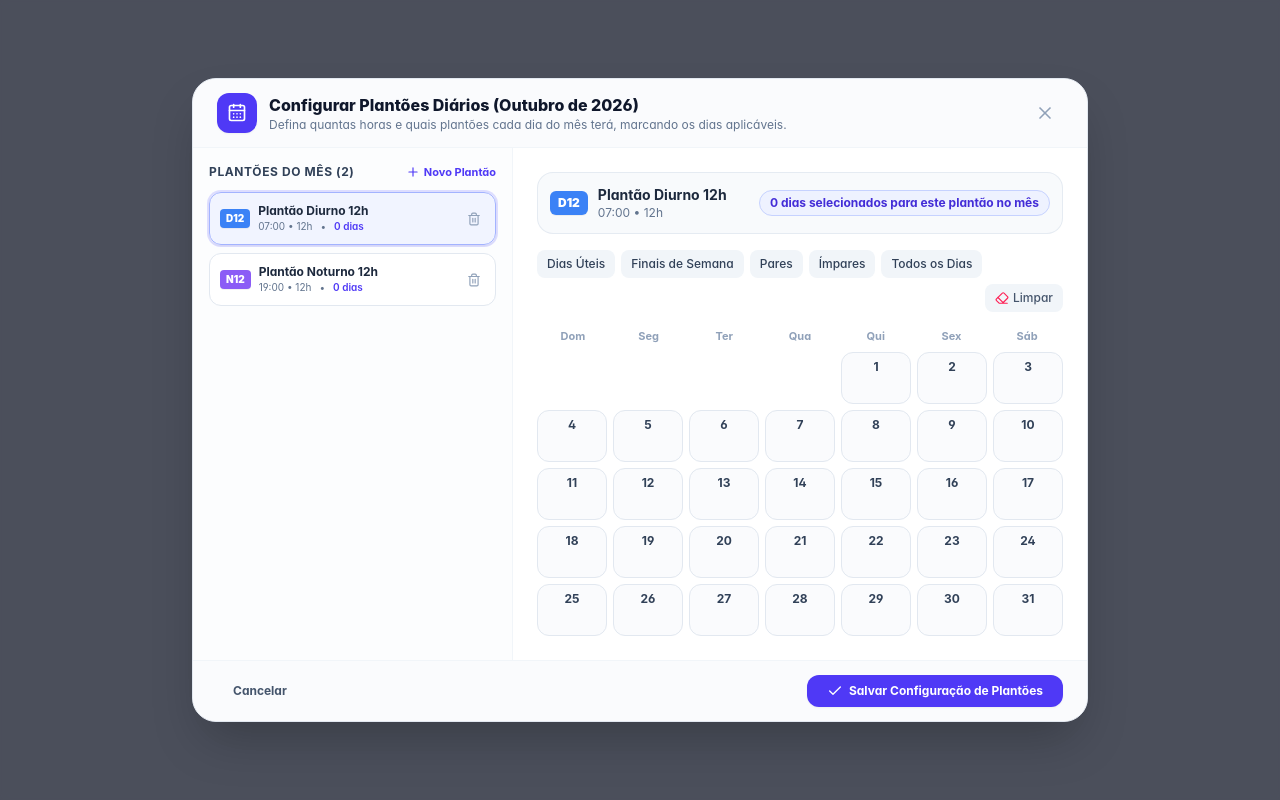
Test: MonthShiftConfigModal › creates a new shift type with a custom start time and duration
# Click "Novo Plantão"
Click the button "Novo Plantão". click: click(451, 172)
box: [406, 164, 496, 180]
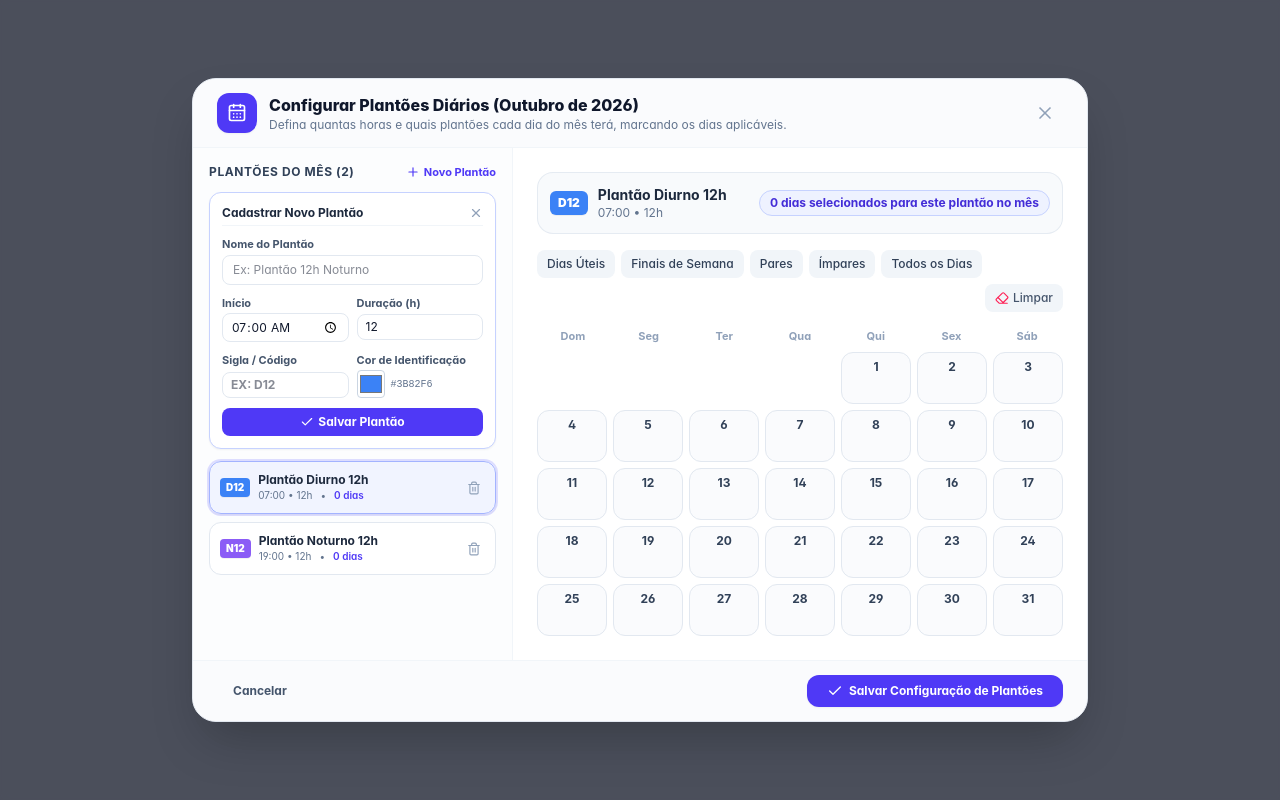
# Fill form
Type "Plantão Fim de Semana 24h" into the field with placeholder "Ex: Plantão 12h Noturno". click: (352, 270)
box: [222, 255, 483, 285]
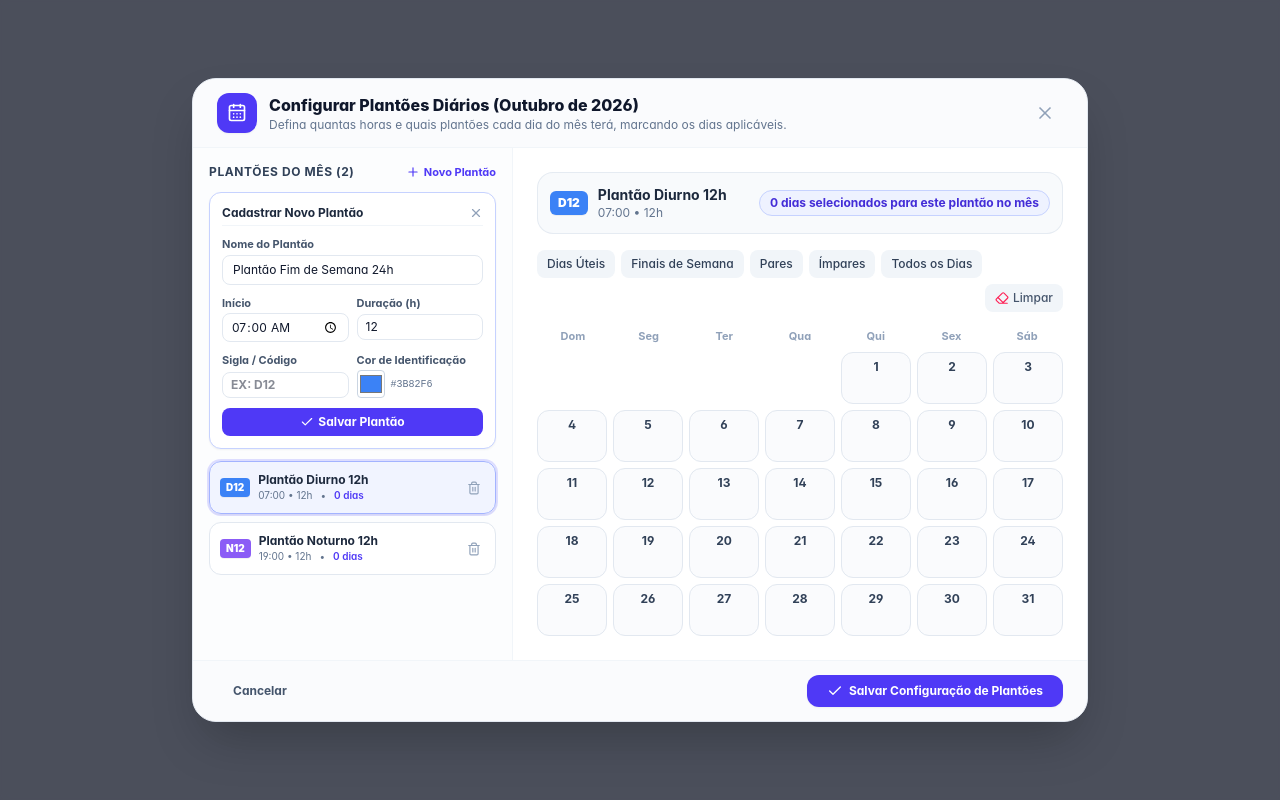
Replace the text in the number field showing "12" with "24". click: (420, 327)
box: [356, 314, 483, 340]
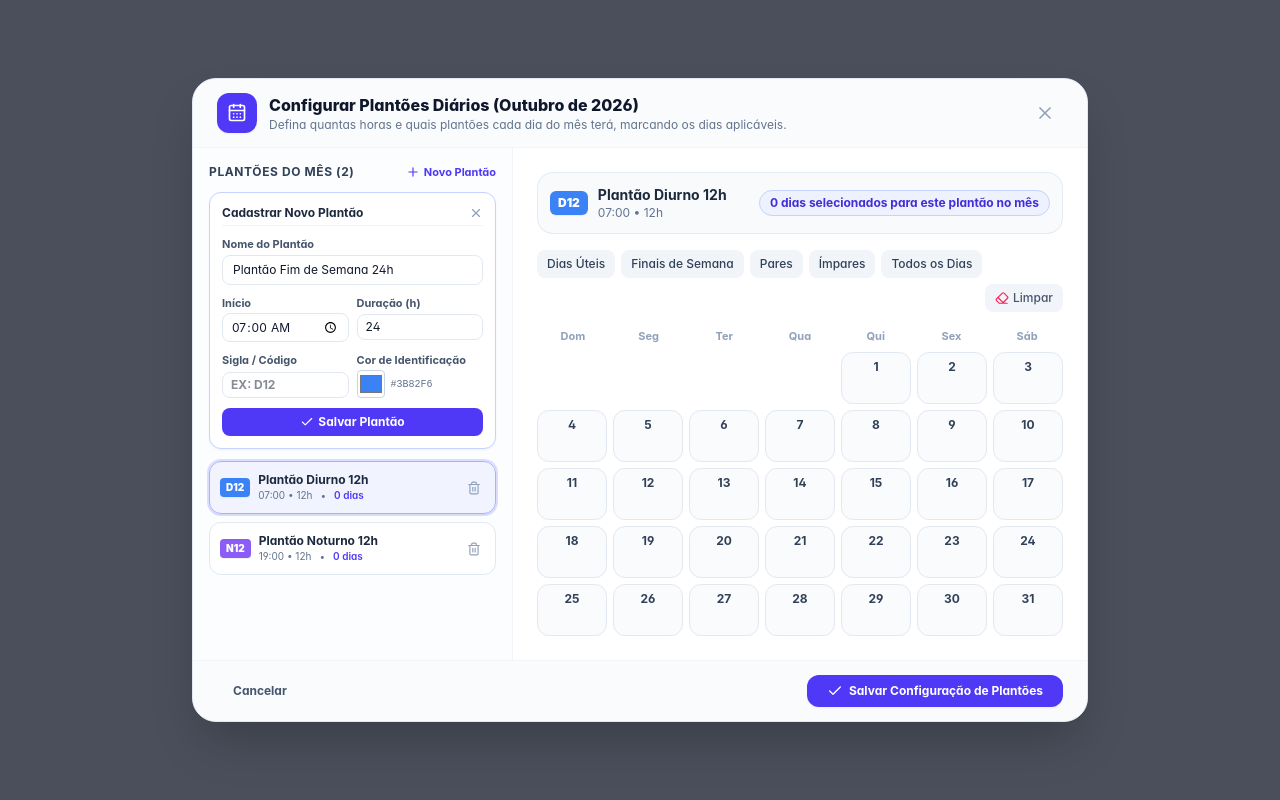
Replace the text in the time field showing "07:00" with "08:00". click: (285, 328)
box: [222, 313, 348, 342]
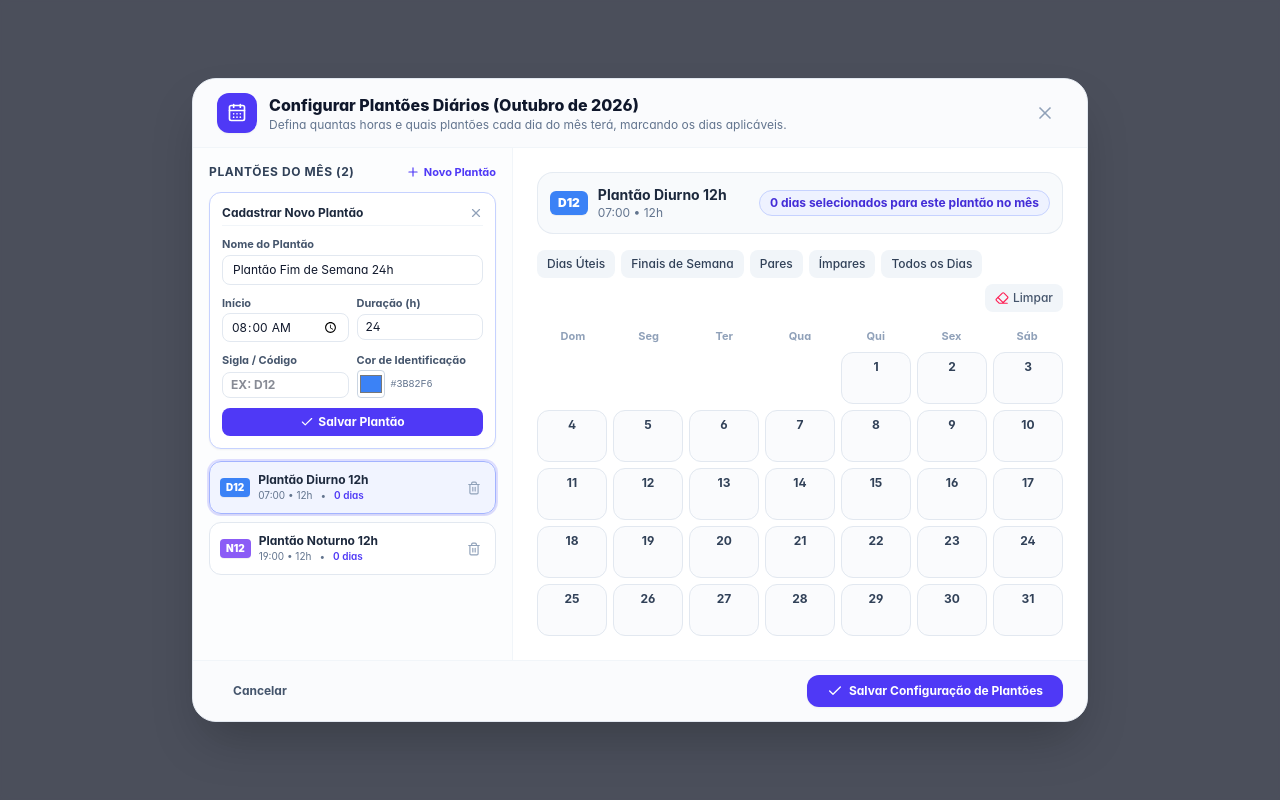
# Save shift
Click the button "Salvar Plantão". click: click(352, 422)
box: [222, 408, 483, 436]
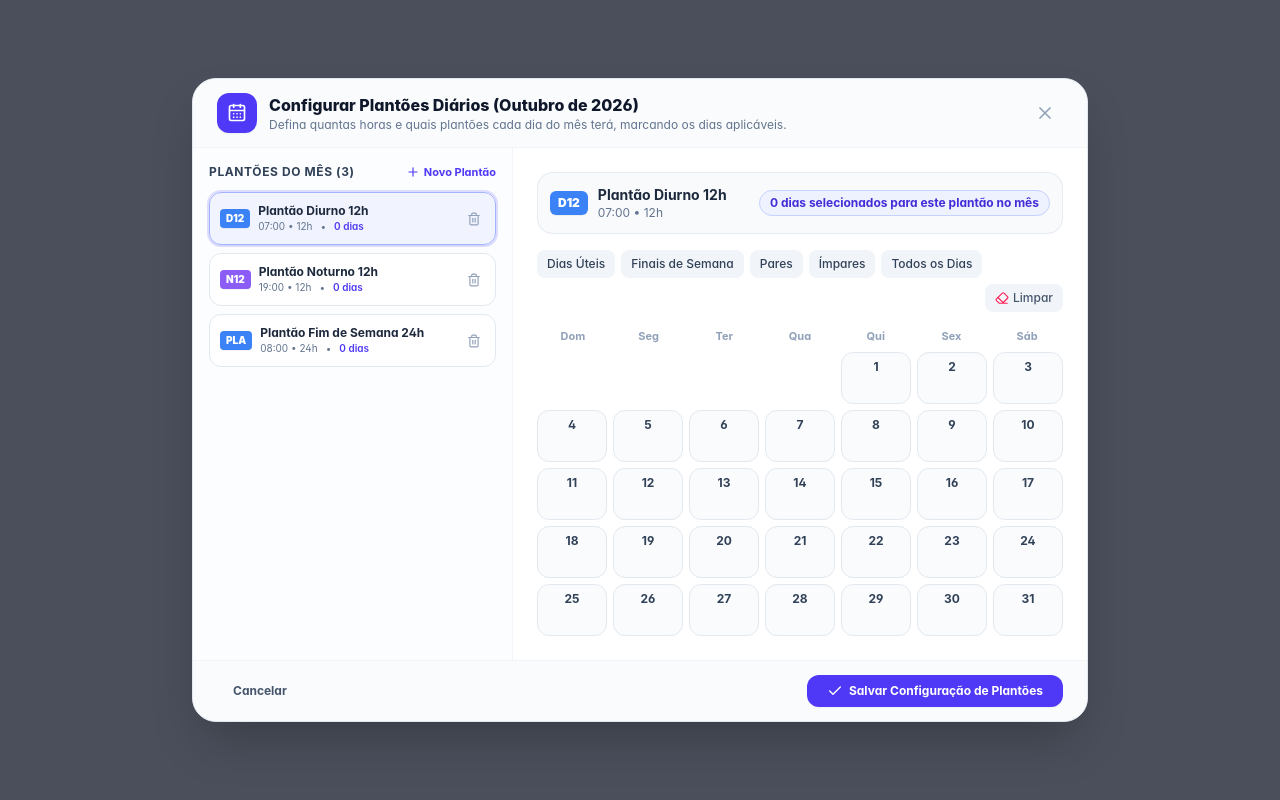
Result: the text "Plantão Fim de Semana 24h" is shown at [260, 325, 424, 341]
